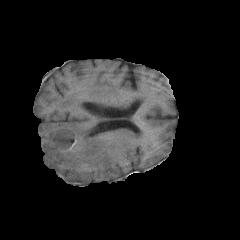glioma: (38, 97, 142, 179)
